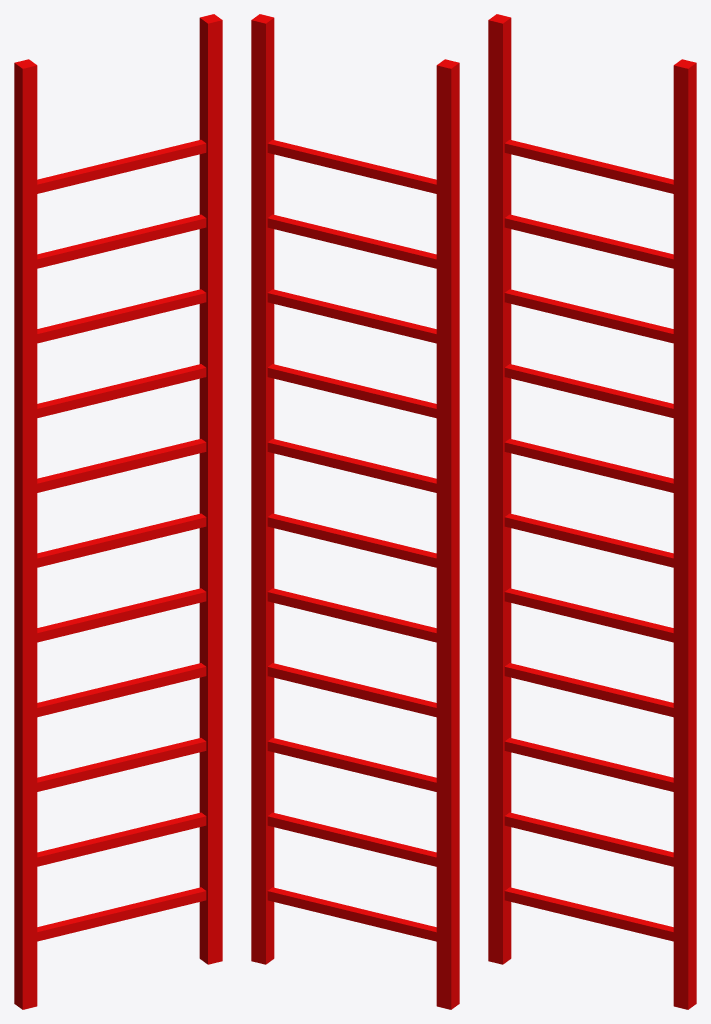
Rendered from Ladder 1.fbx.
The picture shows the model from 3 angles, left to right: view 1: azimuth 30°, elevation 25°; view 2: azimuth 150°, elevation 25°; view 3: azimuth 330°, elevation 25°; orthographic projection.
Parts seen in each view (by area): view 1: Ladder_Sides, Ladder_Top.001, Ladder_Top, Ladder_Interact.001, Ladder_Interact.002, Ladder_Interact.005, Ladder_Interact.006, Ladder_Interact.009, Ladder_Interact.010, Ladder_Interact.003, Ladder_Interact.008, Ladder_Interact.011 (+2 smaller); view 2: Ladder_Sides, Ladder_Top.001, Ladder_Top, Ladder_Interact.006, Ladder_Interact.002, Ladder_Interact.009, Ladder_Interact.010, Ladder_Interact.003, Ladder_Interact.005, Ladder_Interact.007, Ladder_Interact.008, Ladder_Interact.011 (+2 smaller); view 3: Ladder_Sides, Ladder_Top, Ladder_Top.001, Ladder_Interact.006, Ladder_Interact.001, Ladder_Interact.002, Ladder_Interact.005, Ladder_Interact.009, Ladder_Interact.010, Ladder_Interact.003, Ladder_Interact.008, Ladder_Interact.011 (+2 smaller).
Part boxes in pixels (bbox=[...]): Ladder_Sides: bbox=[14, 139, 222, 1009]; Ladder_Top.001: bbox=[14, 59, 37, 189]; Ladder_Top: bbox=[199, 14, 222, 144]; Ladder_Interact.001: bbox=[37, 139, 206, 193]; Ladder_Interact.002: bbox=[37, 214, 206, 268]; Ladder_Interact.005: bbox=[37, 439, 206, 492]; Ladder_Interact.006: bbox=[37, 513, 206, 567]; Ladder_Interact.009: bbox=[37, 738, 206, 791]; Ladder_Interact.010: bbox=[37, 812, 206, 866]; Ladder_Interact.003: bbox=[37, 289, 206, 343]; Ladder_Interact.008: bbox=[37, 663, 206, 717]; Ladder_Interact.011: bbox=[37, 887, 206, 941]; Ladder_Sides: bbox=[251, 139, 459, 1009]; Ladder_Top.001: bbox=[436, 59, 459, 189]; Ladder_Top: bbox=[251, 14, 274, 144]; Ladder_Interact.006: bbox=[267, 513, 436, 567]; Ladder_Interact.002: bbox=[267, 214, 436, 268]; Ladder_Interact.009: bbox=[267, 738, 436, 791]; Ladder_Interact.010: bbox=[267, 812, 436, 866]; Ladder_Interact.003: bbox=[267, 289, 436, 343]; Ladder_Interact.005: bbox=[267, 439, 436, 492]; Ladder_Interact.007: bbox=[267, 588, 436, 642]; Ladder_Interact.008: bbox=[267, 663, 436, 717]; Ladder_Interact.011: bbox=[267, 887, 436, 941]; Ladder_Sides: bbox=[488, 139, 696, 1009]; Ladder_Top: bbox=[673, 59, 696, 189]; Ladder_Top.001: bbox=[488, 14, 511, 144]; Ladder_Interact.006: bbox=[504, 513, 673, 567]; Ladder_Interact.001: bbox=[504, 139, 673, 193]; Ladder_Interact.002: bbox=[504, 214, 673, 268]; Ladder_Interact.005: bbox=[504, 439, 673, 492]; Ladder_Interact.009: bbox=[504, 738, 673, 791]; Ladder_Interact.010: bbox=[504, 812, 673, 866]; Ladder_Interact.003: bbox=[504, 289, 673, 343]; Ladder_Interact.008: bbox=[504, 663, 673, 717]; Ladder_Interact.011: bbox=[504, 887, 673, 941].
Size of the model in its own units: 126 by 567 by 9.18.
